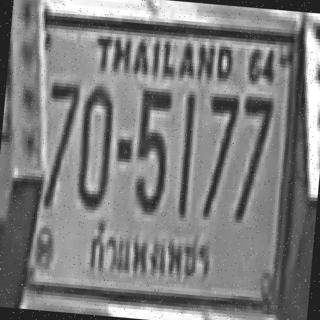N00: (73, 82, 116, 208)
N01: (174, 89, 196, 216)
N05: (131, 87, 171, 212)
N07: (233, 93, 272, 221), (199, 91, 238, 217), (40, 79, 78, 208)
P16: (81, 214, 218, 290)
